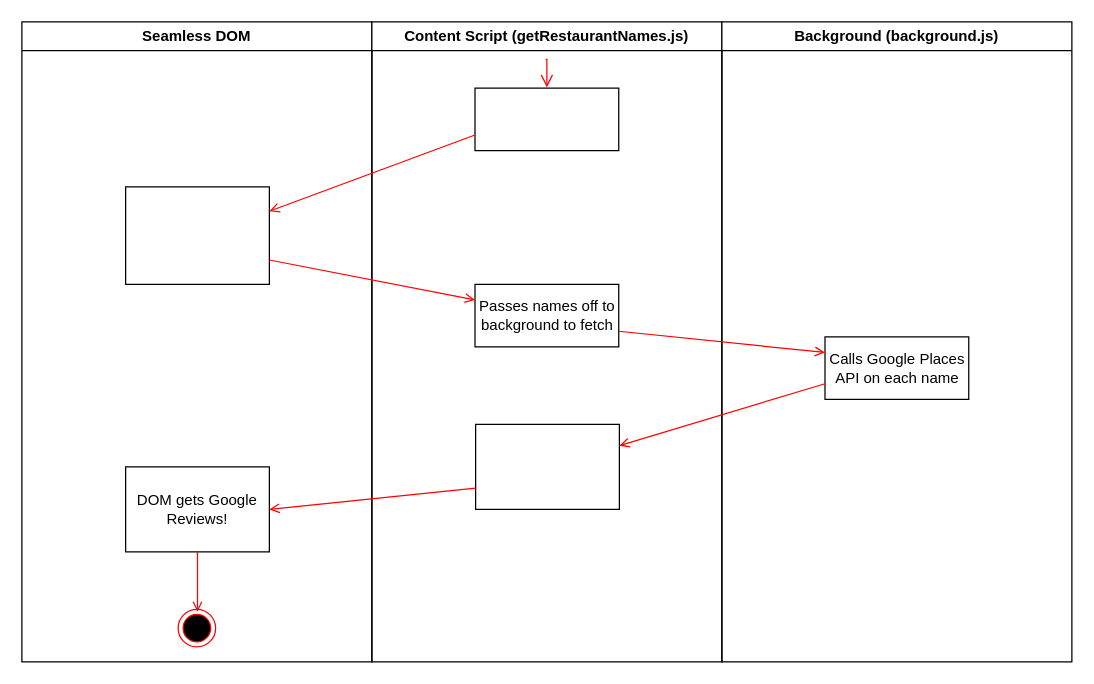
Image size: 1094x684. Some labels were removed from this diagram. The box of each missing label's shape, as (x1, y1, x2, y2) in pixels:
Manifest detects seamless URL: (474, 87, 619, 151)
Queries "h5.u-text-ellipsis" for all restaurant names: (124, 186, 269, 284)
Receives parsed JSON, replaces DOM: (474, 423, 619, 509)
